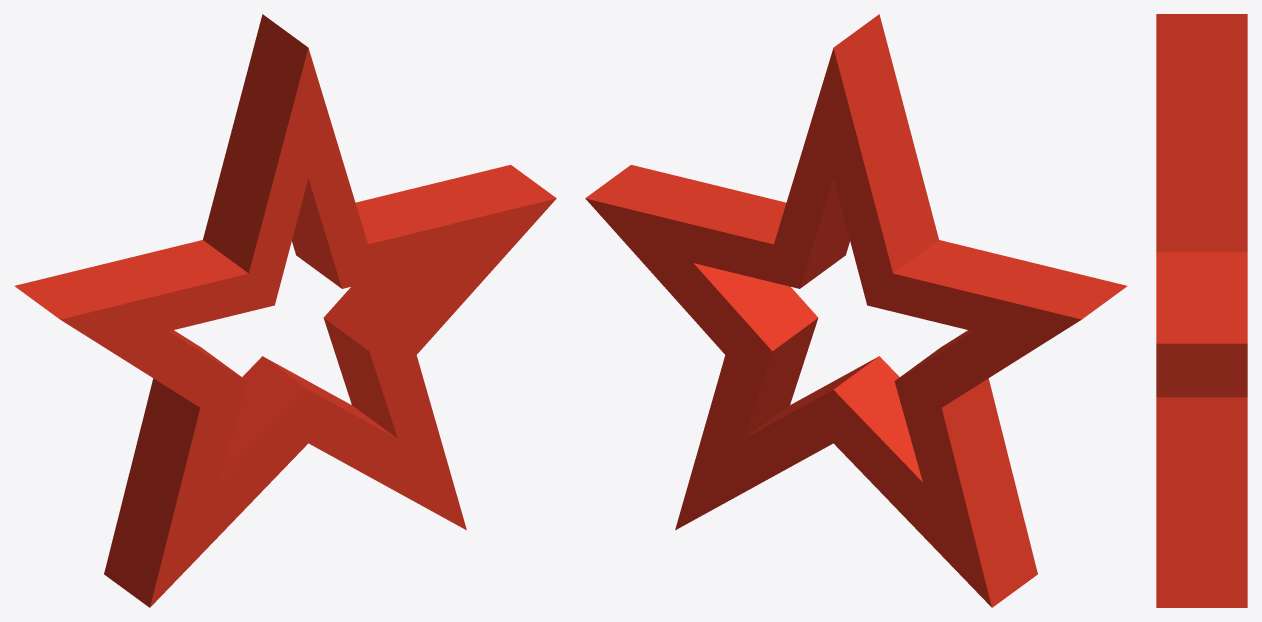
The model's file is Icon_Star_05.fbx.
3 renders of one model, left to right at view 1: azimuth 30°, elevation 25°; view 2: azimuth 150°, elevation 25°; view 3: azimuth 270°, elevation 25°, orthographic.
Visible parts, largest first — view 1: Icon_Star_05; view 2: Icon_Star_05; view 3: Icon_Star_05.
Part boxes in pixels (x1,y1,x2,y2): Icon_Star_05: (14,14,556,607); Icon_Star_05: (585,14,1127,607); Icon_Star_05: (1156,14,1247,607).
Bounding box in the file's own units: 75.27 × 75.53 × 12.06.
